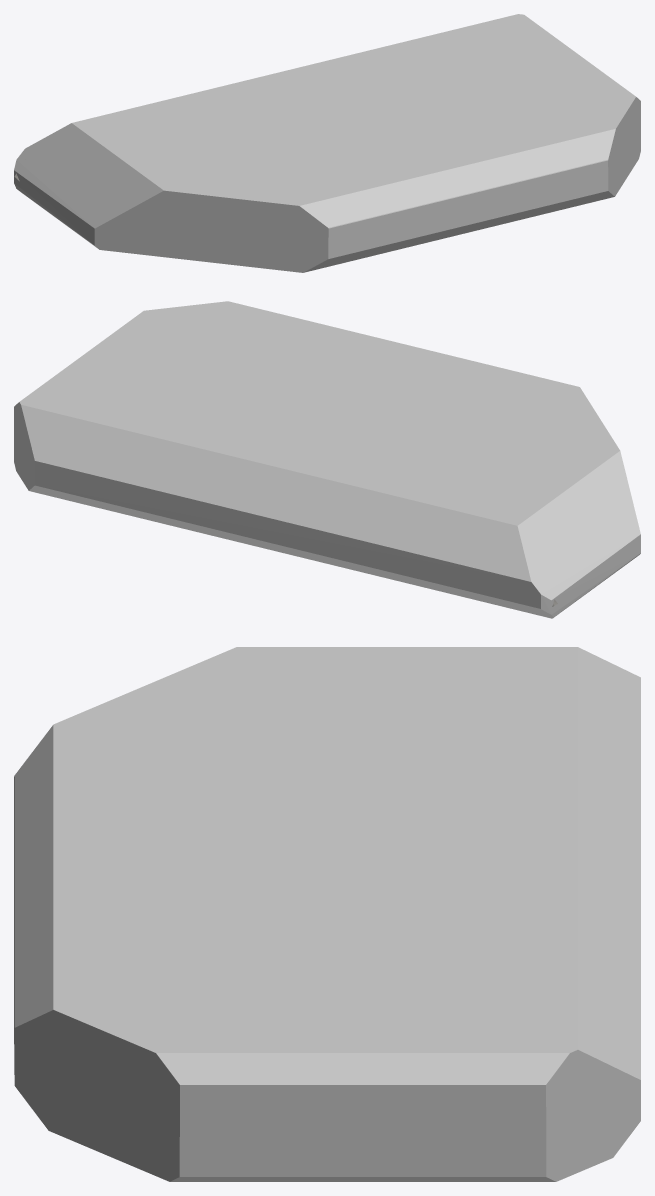
File: SM_Path_Slab_E.fbx
The picture shows the model from 3 angles, top to bottom: view 1: azimuth 30°, elevation 25°; view 2: azimuth 150°, elevation 25°; view 3: azimuth 270°, elevation 25°; orthographic projection. The views are drawn at different scales.
Parts seen in each view (by area): view 1: SM_Path_Slab_E_ConvexHulls; view 2: SM_Path_Slab_E_ConvexHulls; view 3: SM_Path_Slab_E_ConvexHulls.
Boxes of the visible parts, bbox=[...] form: SM_Path_Slab_E_ConvexHulls: bbox=[14, 14, 640, 272]; SM_Path_Slab_E_ConvexHulls: bbox=[14, 301, 640, 618]; SM_Path_Slab_E_ConvexHulls: bbox=[14, 647, 640, 1181].
Size of the model in its own units: 75.77 by 43.84 by 9.49.
